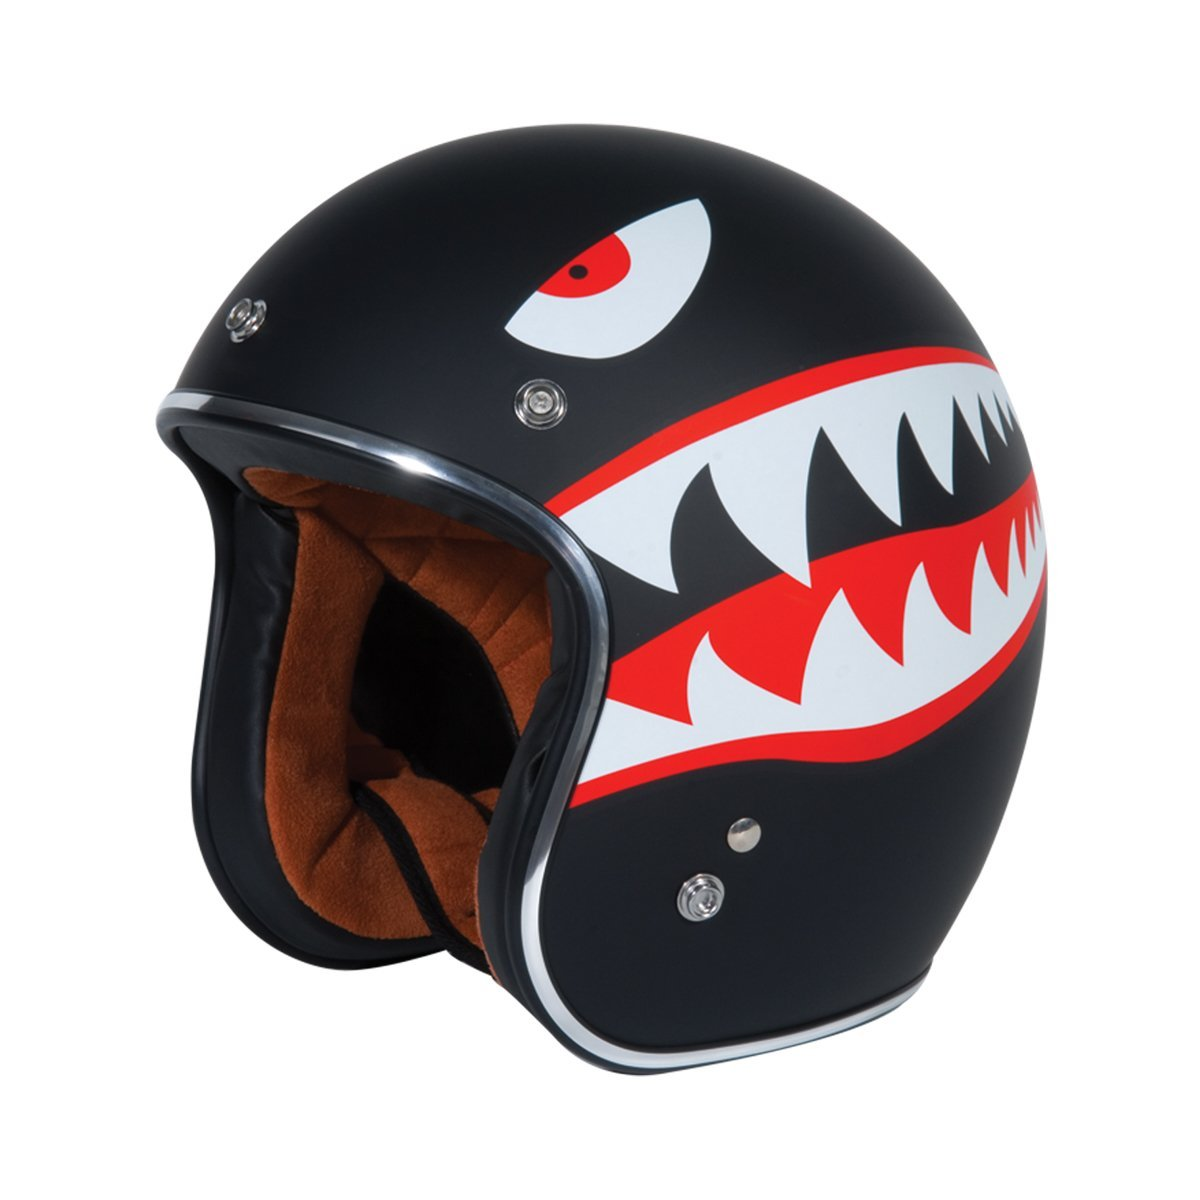with_helmet: (140, 105, 1069, 1084)
